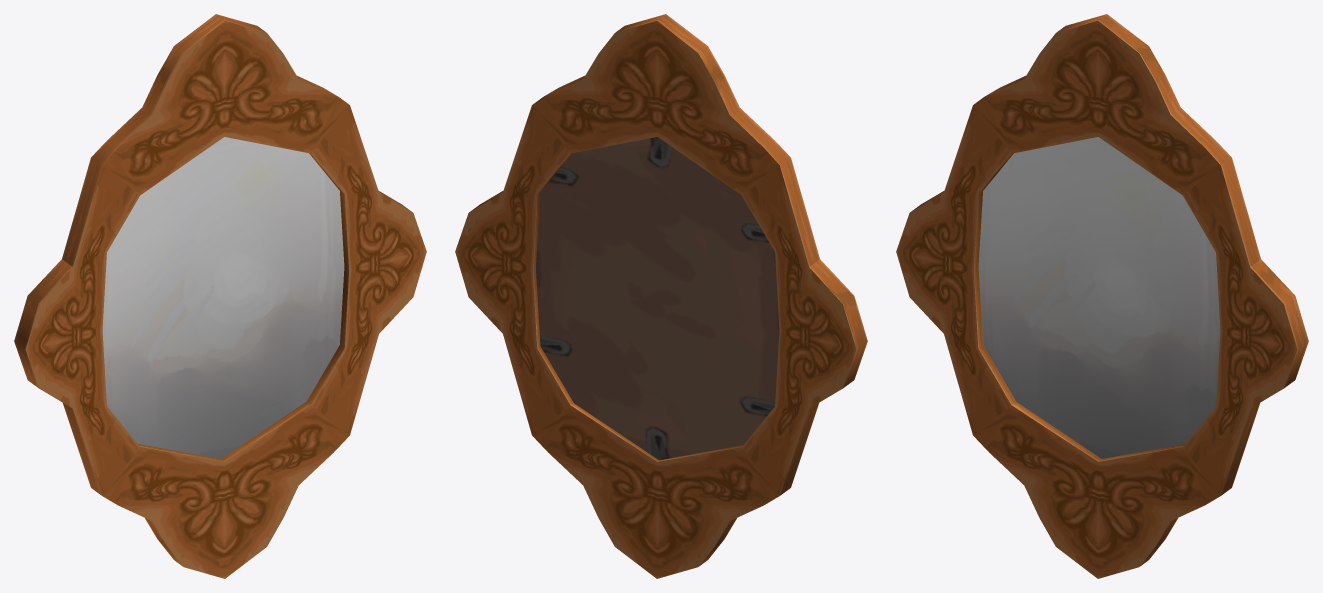
The model's file is SM_PROP_mirror_interior_05.fbx.
The picture shows the model from 3 angles, left to right: view 1: azimuth 30°, elevation 25°; view 2: azimuth 150°, elevation 25°; view 3: azimuth 330°, elevation 25°; orthographic projection.
Parts seen in each view (by area): view 1: SM_PROP_mirror_interior_05; view 2: SM_PROP_mirror_interior_05; view 3: SM_PROP_mirror_interior_05.
Part boxes in pixels (x1,y1,x2,y2): SM_PROP_mirror_interior_05: (14, 14, 426, 578); SM_PROP_mirror_interior_05: (455, 14, 867, 578); SM_PROP_mirror_interior_05: (896, 14, 1308, 578).
Size of the model in its own units: 89.87 by 119 by 4.46.
